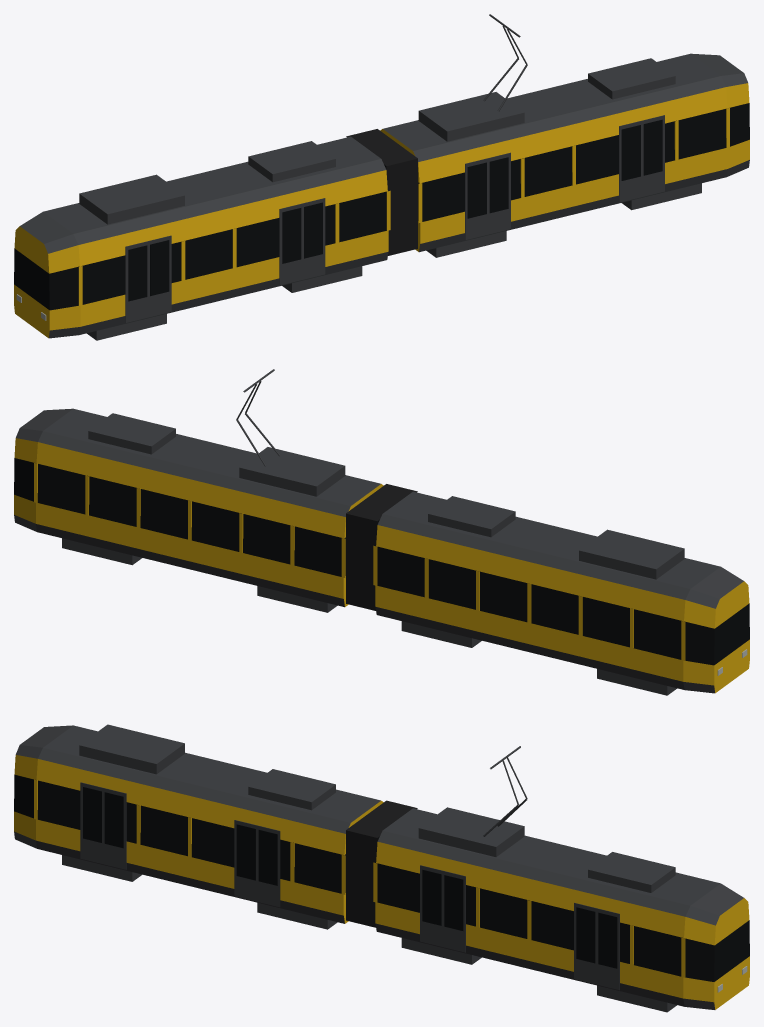
The model's file is SM_tram.glb.
The picture shows the model from 3 angles, top to bottom: view 1: azimuth 30°, elevation 25°; view 2: azimuth 150°, elevation 25°; view 3: azimuth 330°, elevation 25°; orthographic projection.
Parts seen in each view (by area): view 1: SM_tram; view 2: SM_tram; view 3: SM_tram.
Boxes of the visible parts, x1,y1,x2,y2 form: SM_tram: (14, 14, 749, 340); SM_tram: (14, 369, 749, 695); SM_tram: (14, 724, 749, 1012).
Size of the model in its own units: 19.94 by 5.4 by 2.23.
